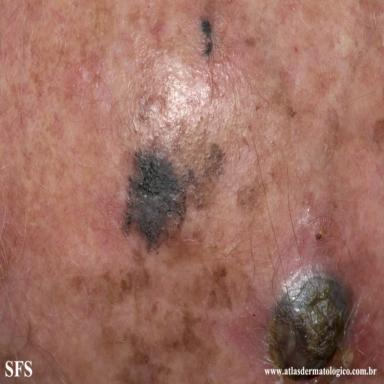Melanoma: (120, 132, 227, 252), (269, 273, 349, 369), (197, 15, 214, 59)
